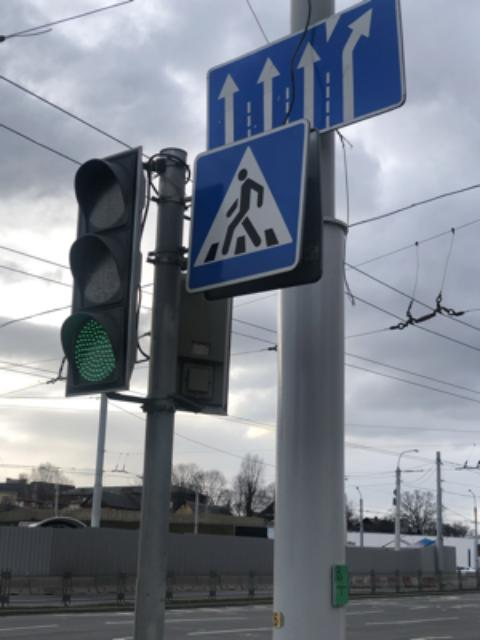crosswalk-sign: (185, 118, 321, 298)
